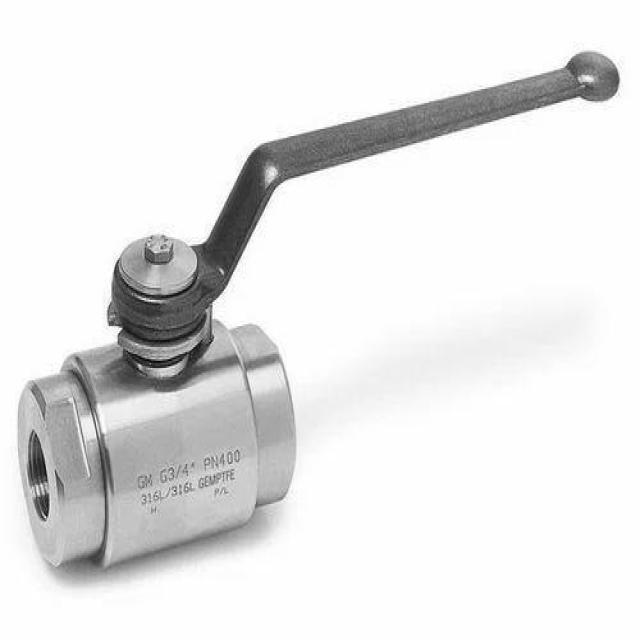opened_valve: (19, 48, 619, 578)
